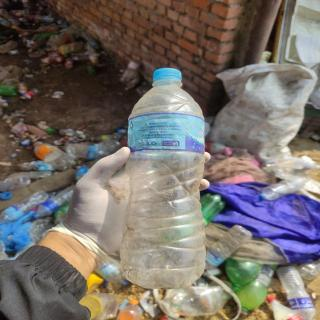Plastic-bottle: (118, 65, 212, 294), (274, 259, 320, 320), (30, 179, 84, 225), (1, 187, 50, 229)
